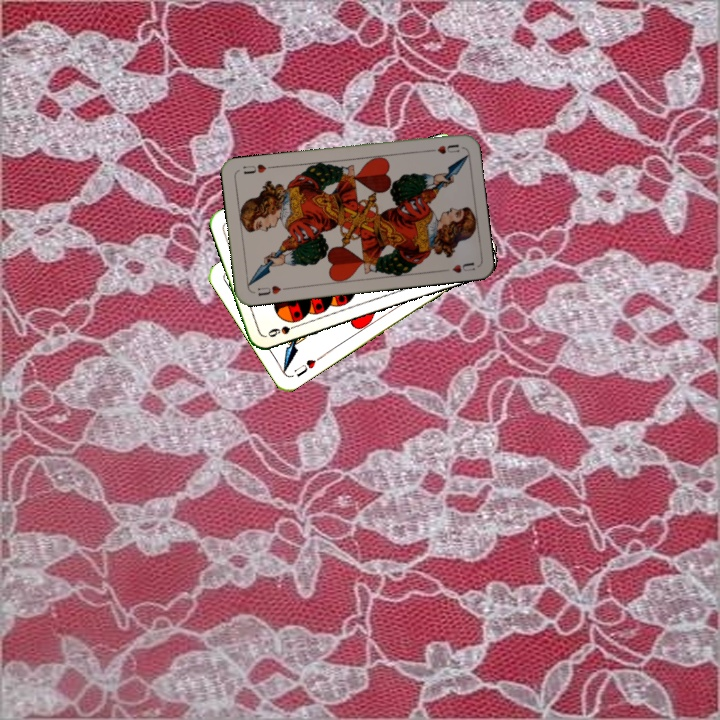HU: (290, 352, 324, 379), (423, 140, 462, 157), (253, 281, 290, 298)
S9: (264, 320, 302, 340)
